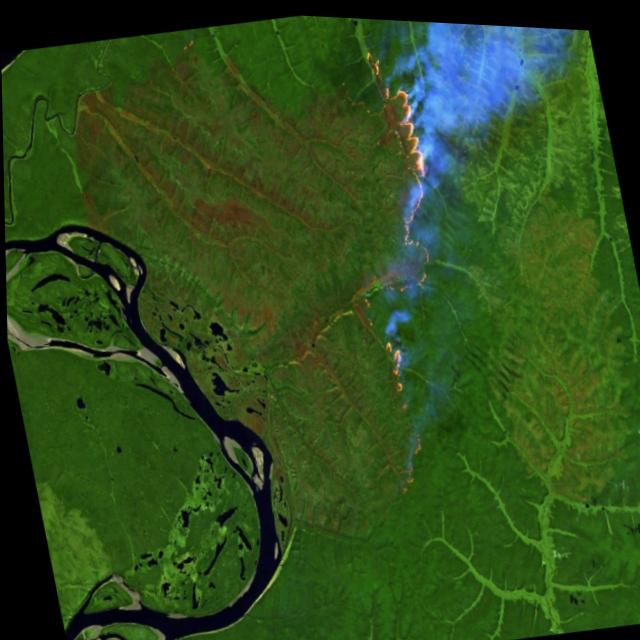fire: (328, 29, 454, 300), (367, 321, 417, 400)
